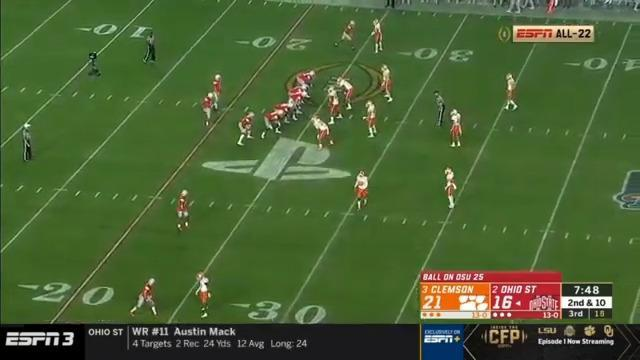defense: (311, 115, 335, 153), (195, 273, 214, 320), (353, 170, 371, 213), (328, 86, 346, 128), (378, 63, 396, 104), (361, 99, 378, 140), (446, 108, 462, 150), (338, 75, 356, 112), (444, 166, 459, 209), (370, 19, 386, 55), (505, 72, 518, 113)
oline: (261, 109, 286, 140), (273, 102, 297, 124), (288, 92, 308, 114), (296, 70, 315, 91), (288, 84, 310, 95)
qb: (210, 71, 224, 114)
ref: (21, 120, 37, 163), (432, 92, 448, 131), (144, 32, 157, 66), (383, 0, 398, 10)
skill: (130, 277, 160, 318), (175, 187, 193, 234), (334, 19, 359, 50), (238, 111, 256, 149), (201, 91, 216, 130)
